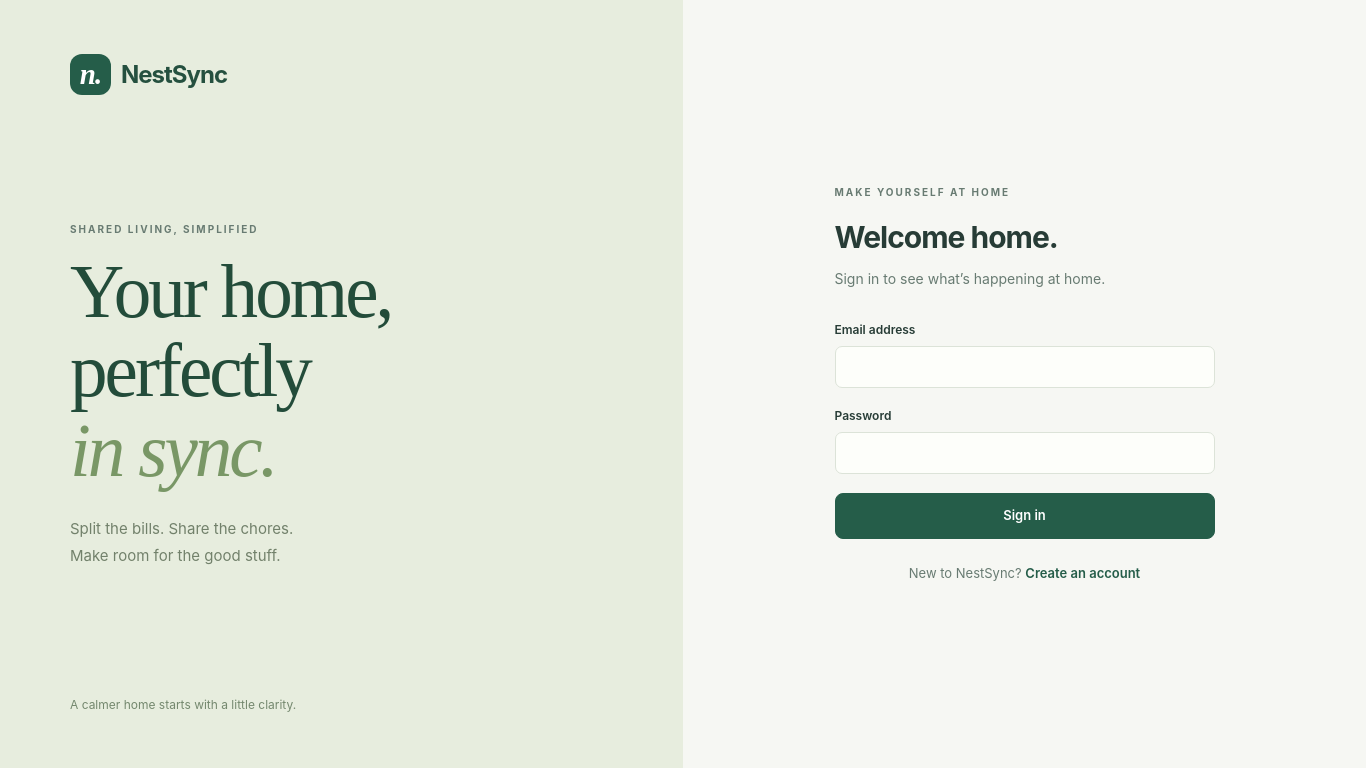
shows login errors without entering the private app
Type "alex@example.com" into the field labelled "Email address". click: (1024, 367)
box: [834, 346, 1214, 388]
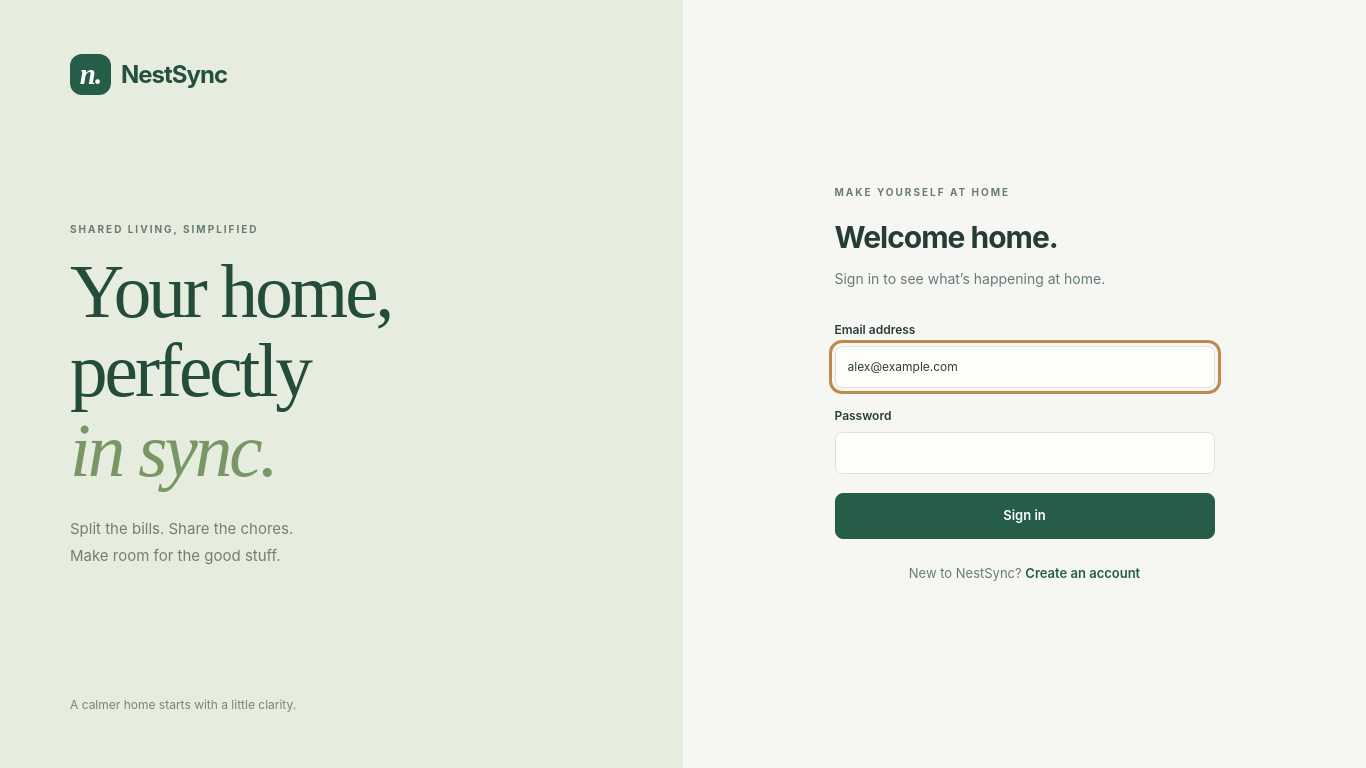
Type "wrong" into the password field labelled "Password". click: (1024, 453)
box: [834, 432, 1214, 474]
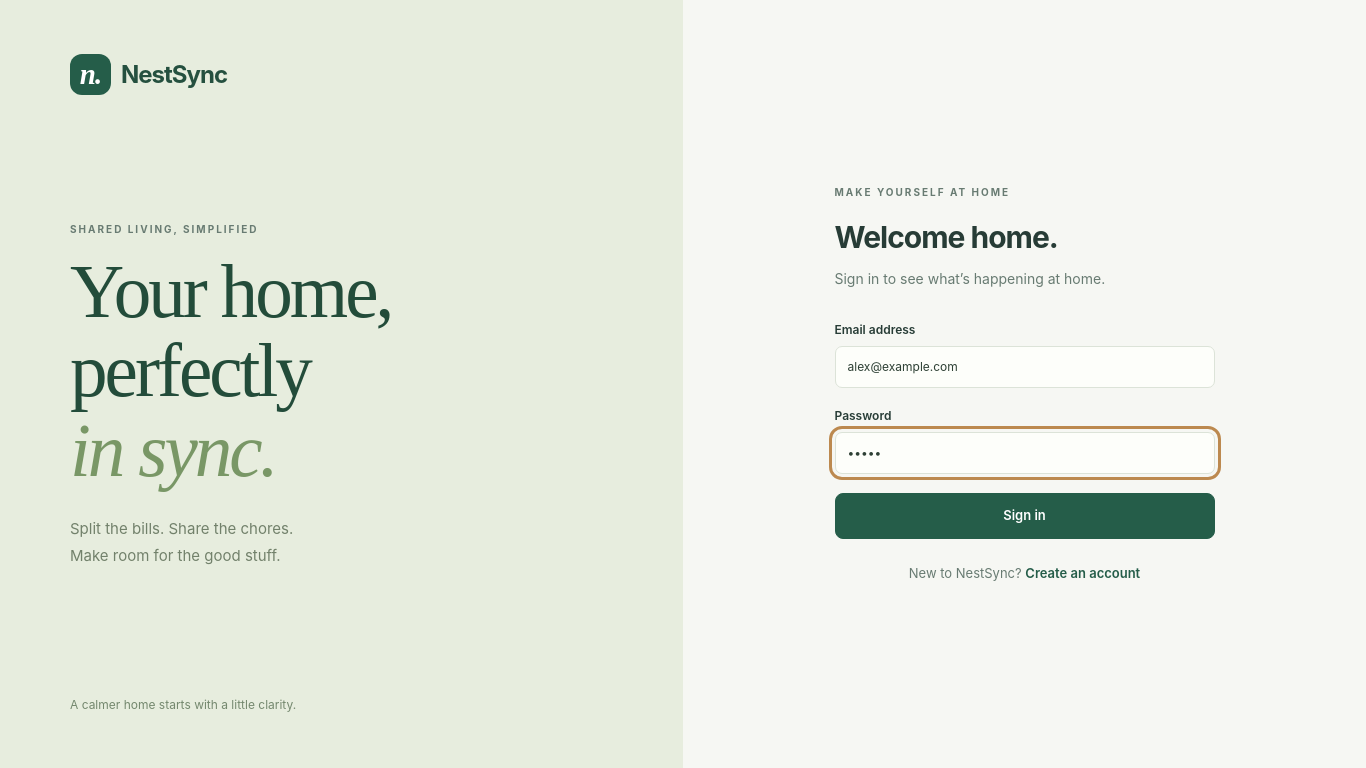
Click the button "Sign in". click: (1024, 516)
box: [834, 493, 1214, 538]
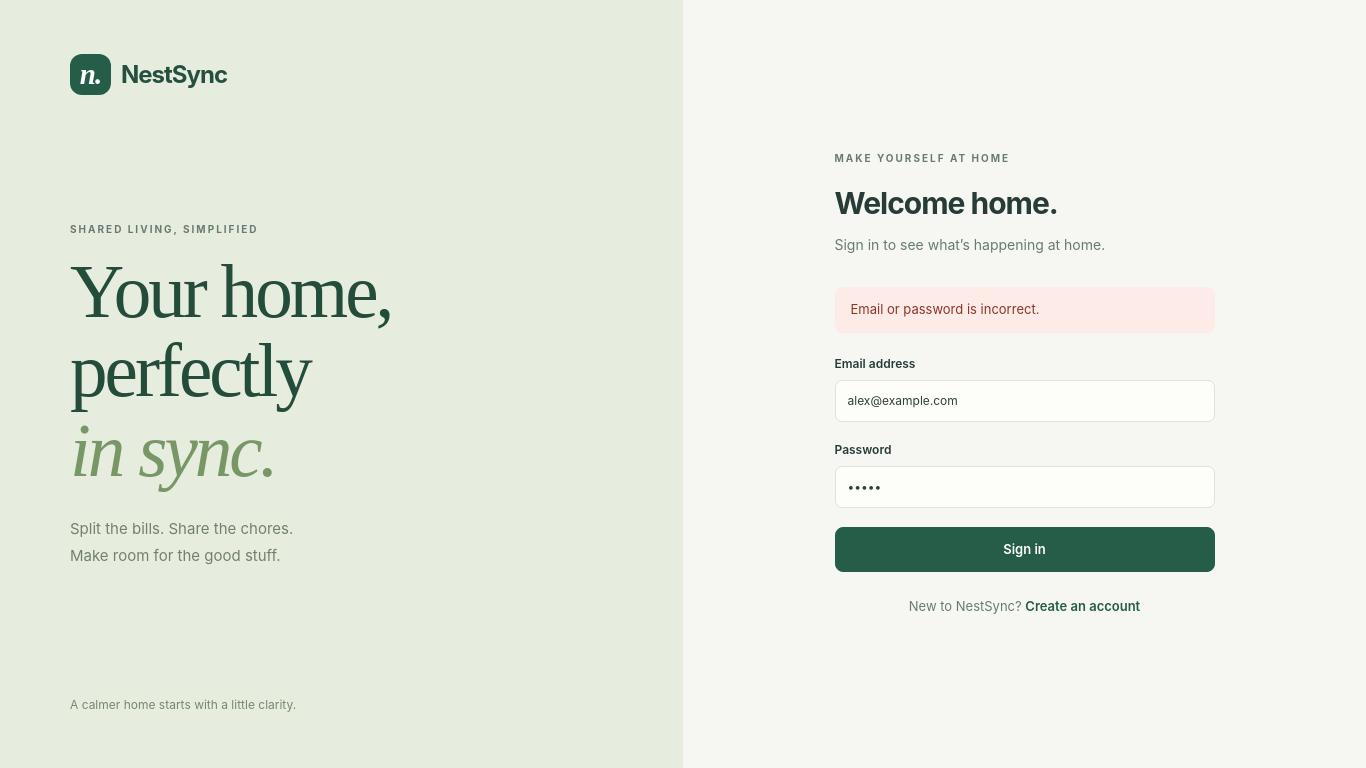
Result: the message reads "Email or password is incorrect." at [850, 301, 1039, 317]
